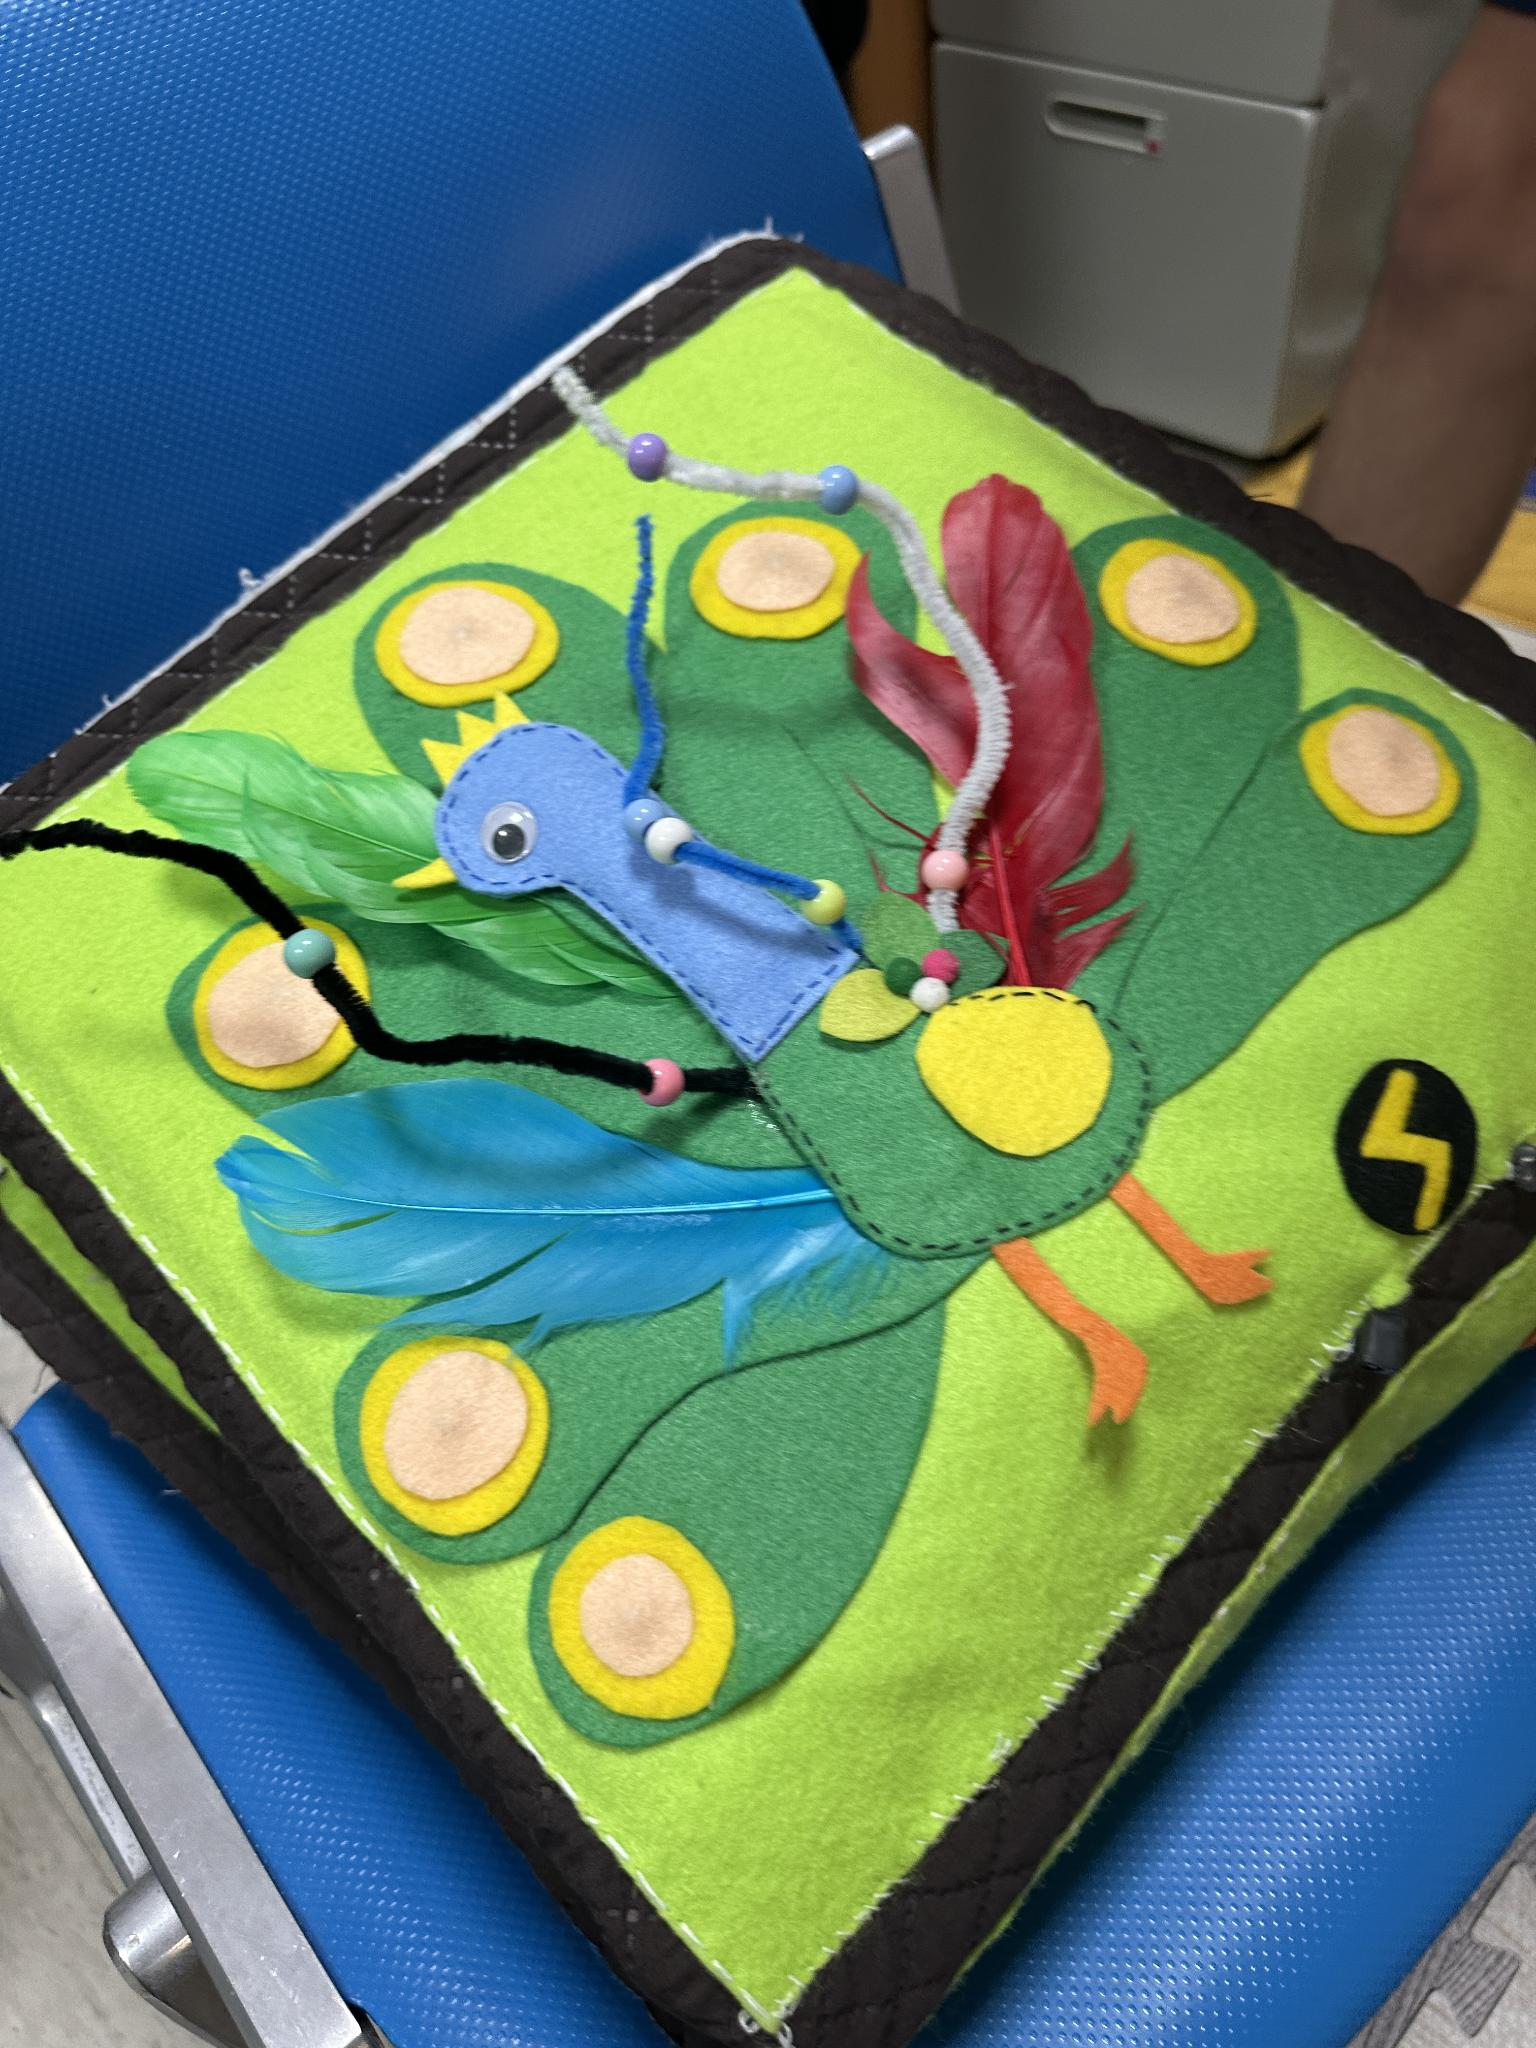bead: (615, 1013, 705, 1135), (260, 892, 360, 984), (605, 398, 682, 495), (905, 826, 989, 908), (783, 851, 849, 927), (807, 443, 866, 527), (597, 800, 681, 830), (649, 818, 695, 868)
